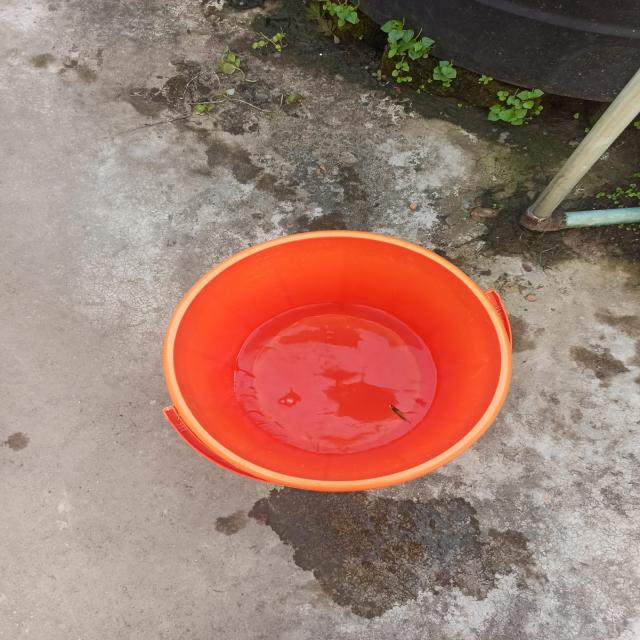Breeding Place: (135, 205, 534, 511)
